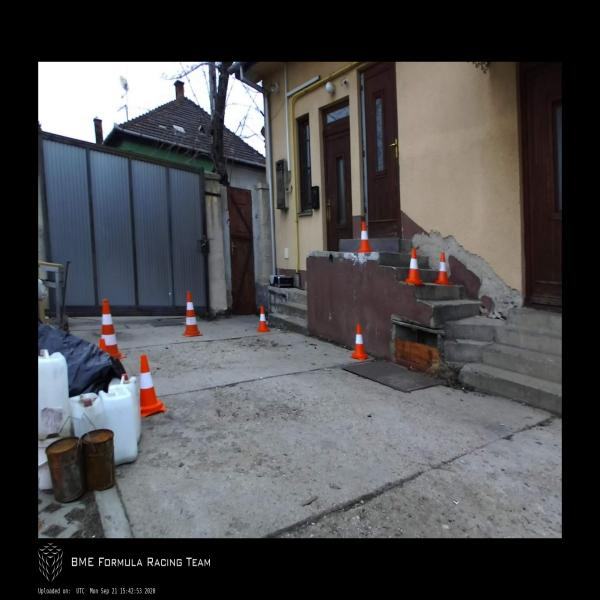large_orange_cone: (101, 299, 126, 361), (182, 291, 202, 337)
orange_cone: (139, 354, 167, 418), (403, 248, 423, 284), (350, 324, 369, 360), (435, 252, 450, 286), (357, 222, 373, 252), (257, 306, 270, 332)
